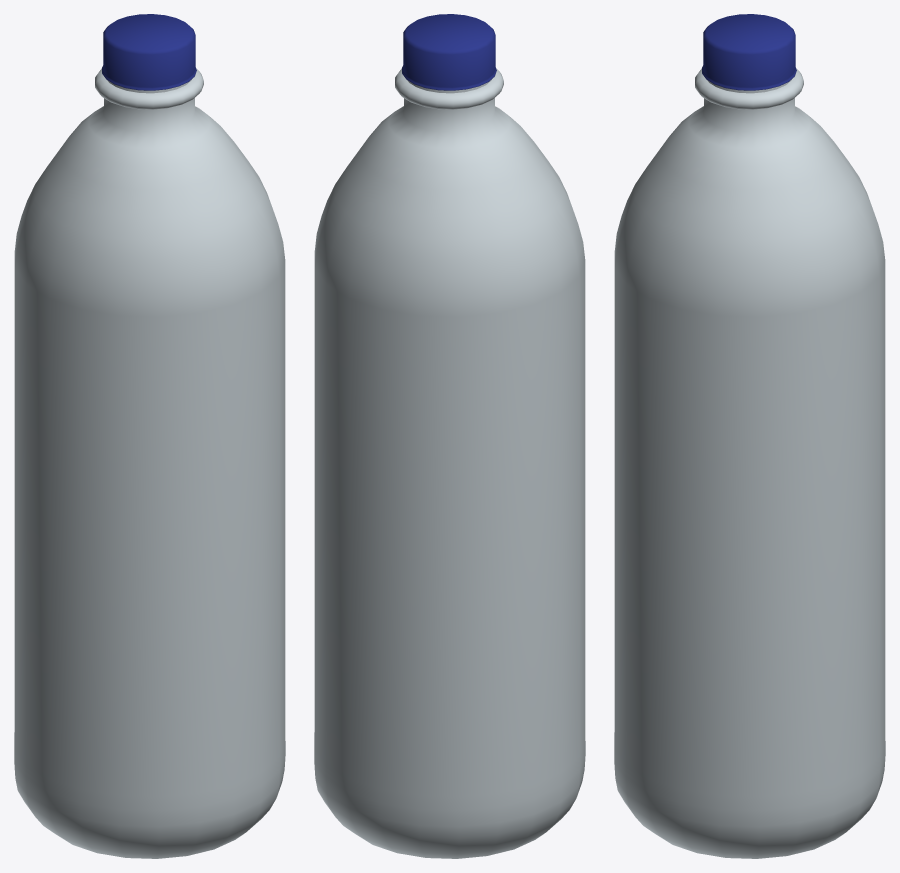
The model's file is Bottel1.fbx.
3 renders of one model, left to right at view 1: azimuth 30°, elevation 25°; view 2: azimuth 150°, elevation 25°; view 3: azimuth 270°, elevation 25°, orthographic.
Visible parts, largest first — view 1: SM_Water_bottle_2, SM_Water_bottle_2_cap; view 2: SM_Water_bottle_2, SM_Water_bottle_2_cap; view 3: SM_Water_bottle_2, SM_Water_bottle_2_cap.
Part boxes in pixels (left/top/right/bottom): SM_Water_bottle_2: left=14, top=68, right=285, bottom=858; SM_Water_bottle_2_cap: left=102, top=14, right=196, bottom=90; SM_Water_bottle_2: left=314, top=68, right=585, bottom=858; SM_Water_bottle_2_cap: left=402, top=14, right=496, bottom=90; SM_Water_bottle_2: left=614, top=68, right=885, bottom=858; SM_Water_bottle_2_cap: left=702, top=14, right=796, bottom=90.
Size of the model in its own units: 9.74 by 31.43 by 9.71.
